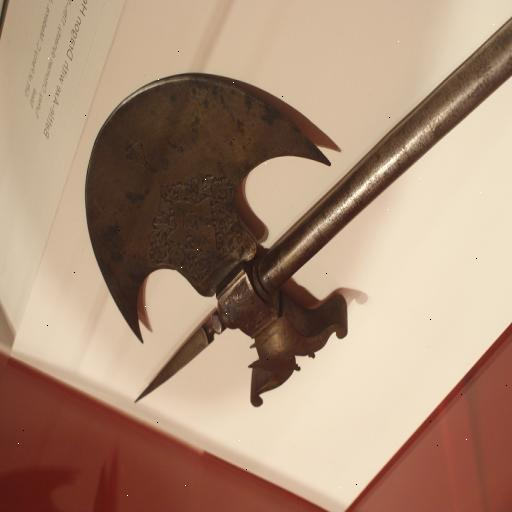Axe: (83, 19, 512, 404)
